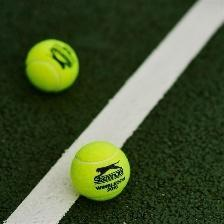Sports-Ball: (71, 141, 131, 205), (23, 38, 83, 96)
